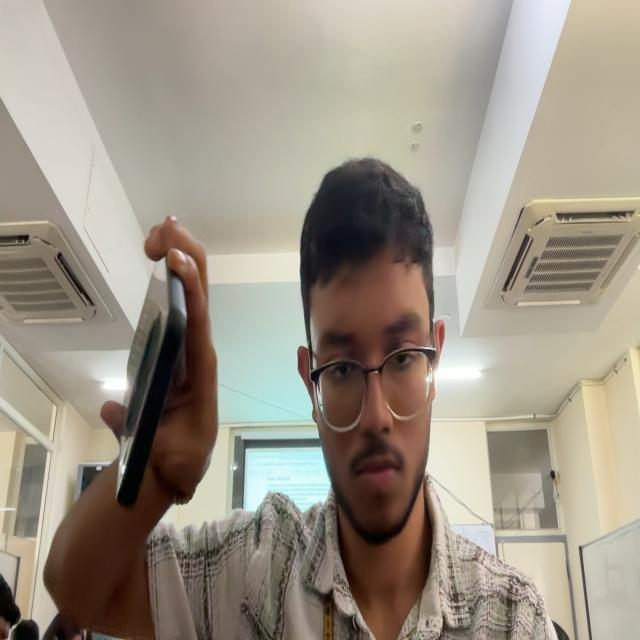Useful: (116, 258, 187, 506)
